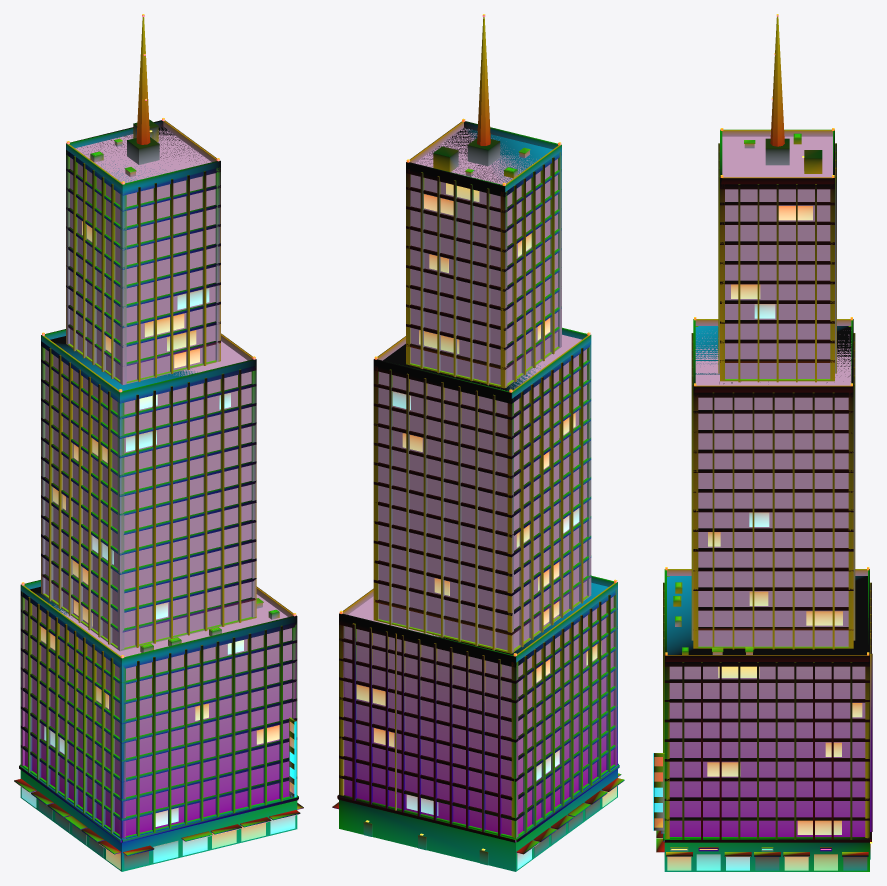
File: Tower_Spire_V1.fbx
3 renders of one model, left to right at view 1: azimuth 30°, elevation 25°; view 2: azimuth 150°, elevation 25°; view 3: azimuth 270°, elevation 25°, orthographic.
Visible parts, largest first — view 1: Tower_Spire_V1_LOD0; view 2: Tower_Spire_V1_LOD0; view 3: Tower_Spire_V1_LOD0.
Boxes of the visible parts, box(x1,y1,x2,y2) form: Tower_Spire_V1_LOD0: box(14, 14, 303, 871); Tower_Spire_V1_LOD0: box(332, 14, 624, 871); Tower_Spire_V1_LOD0: box(653, 14, 872, 871).
Size of what is drawn, in the model's own units: 36.8 by 148 by 36.31.
